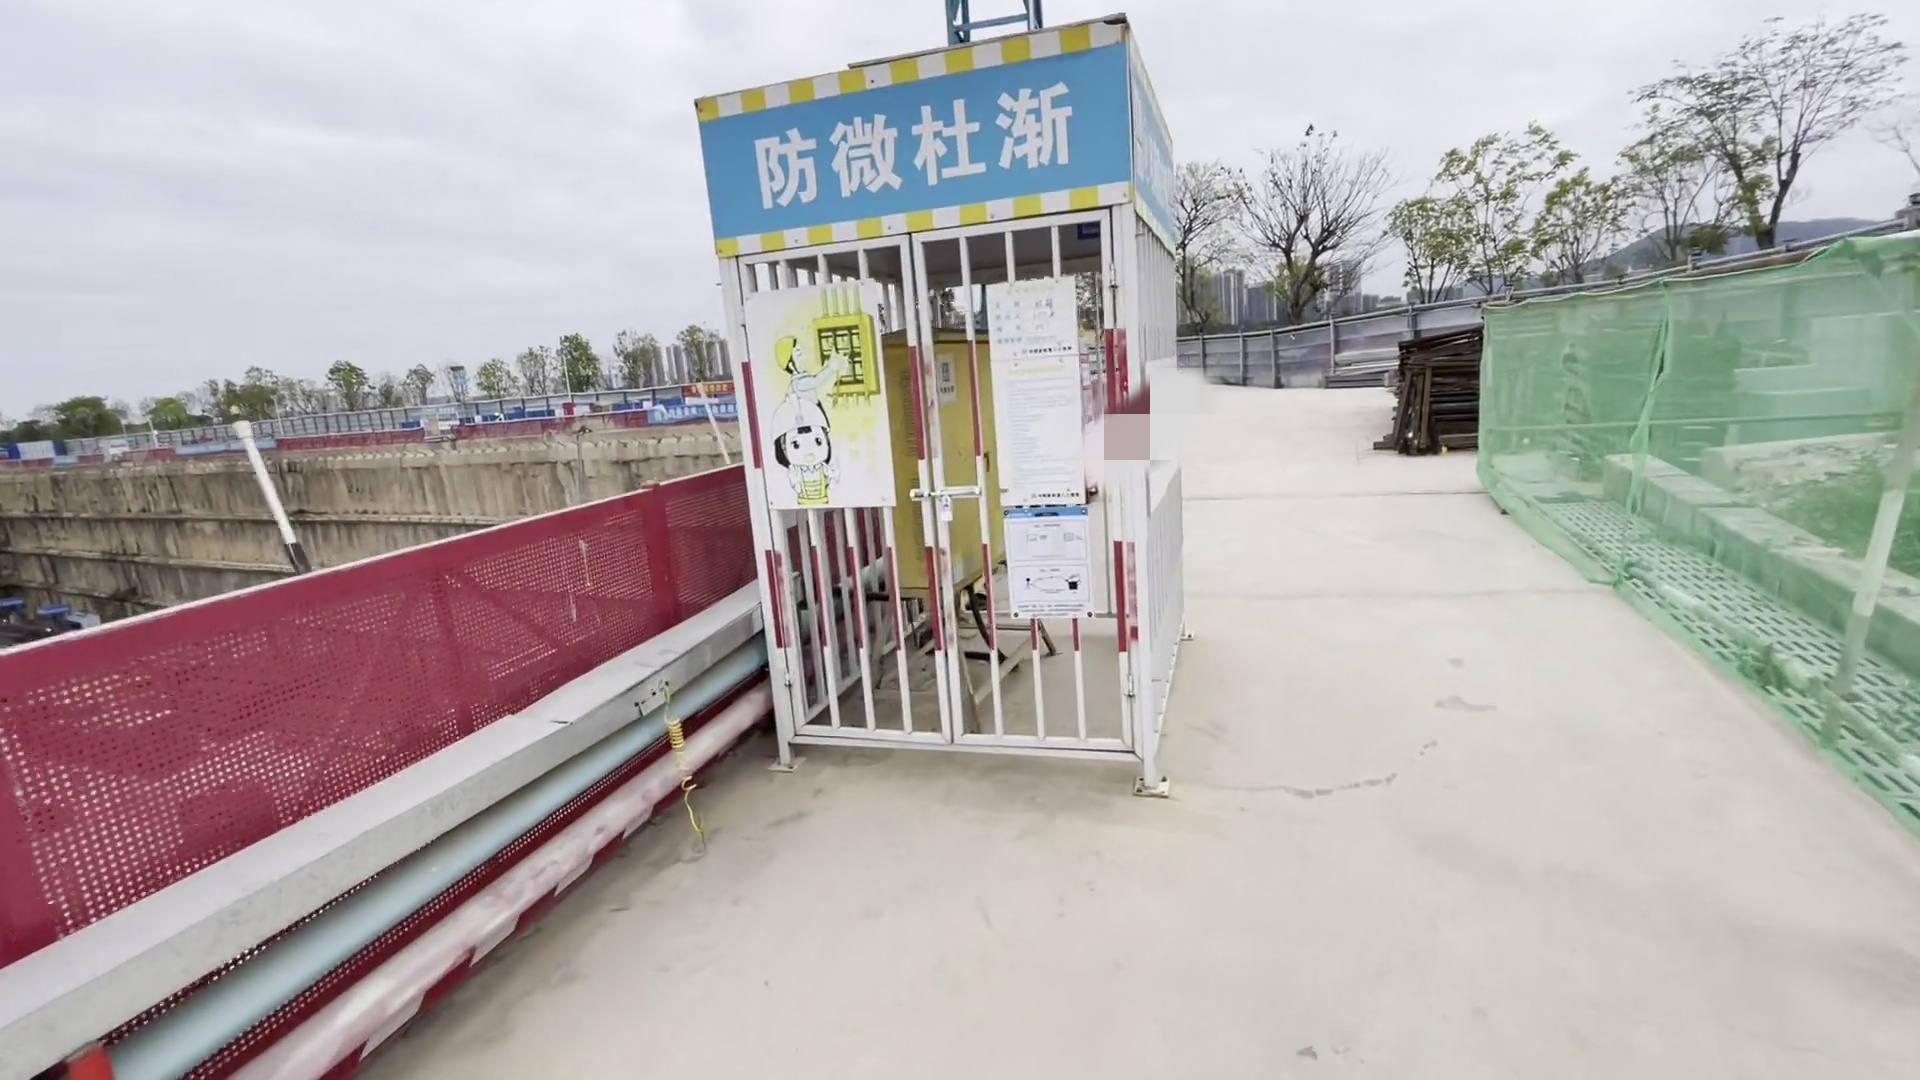fence: (1, 462, 746, 980), (278, 401, 676, 451)
slogan: (732, 63, 1124, 218), (647, 404, 740, 421), (688, 381, 738, 394)
